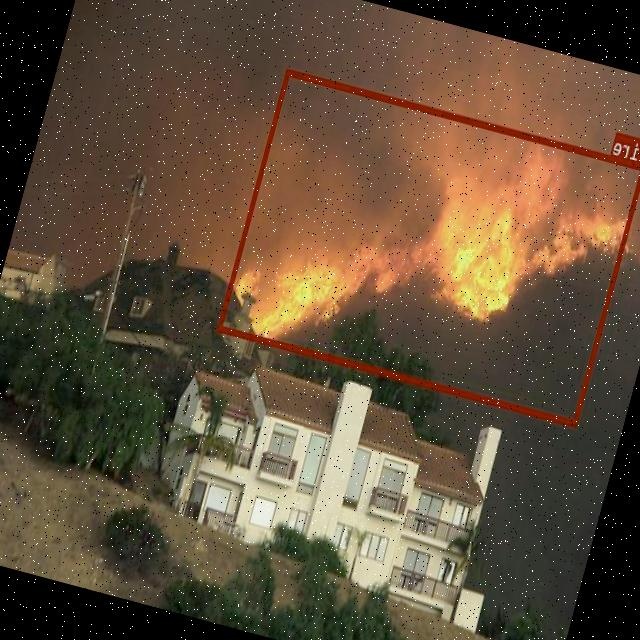fire: (217, 67, 640, 426)
